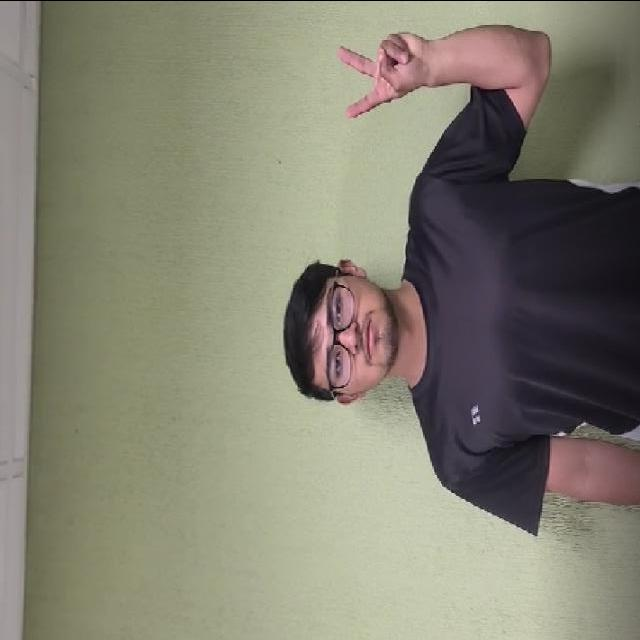V: (333, 8, 445, 158)
